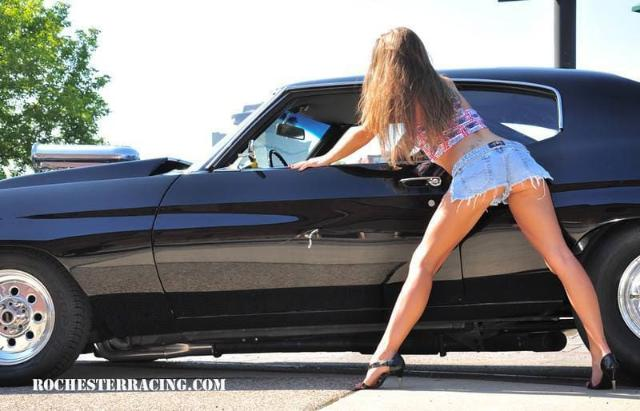chevelle-1972: (0, 76, 451, 384), (446, 70, 639, 377), (402, 204, 583, 354)
